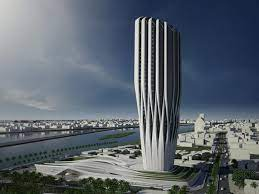Sky Building: (129, 13, 185, 175)
